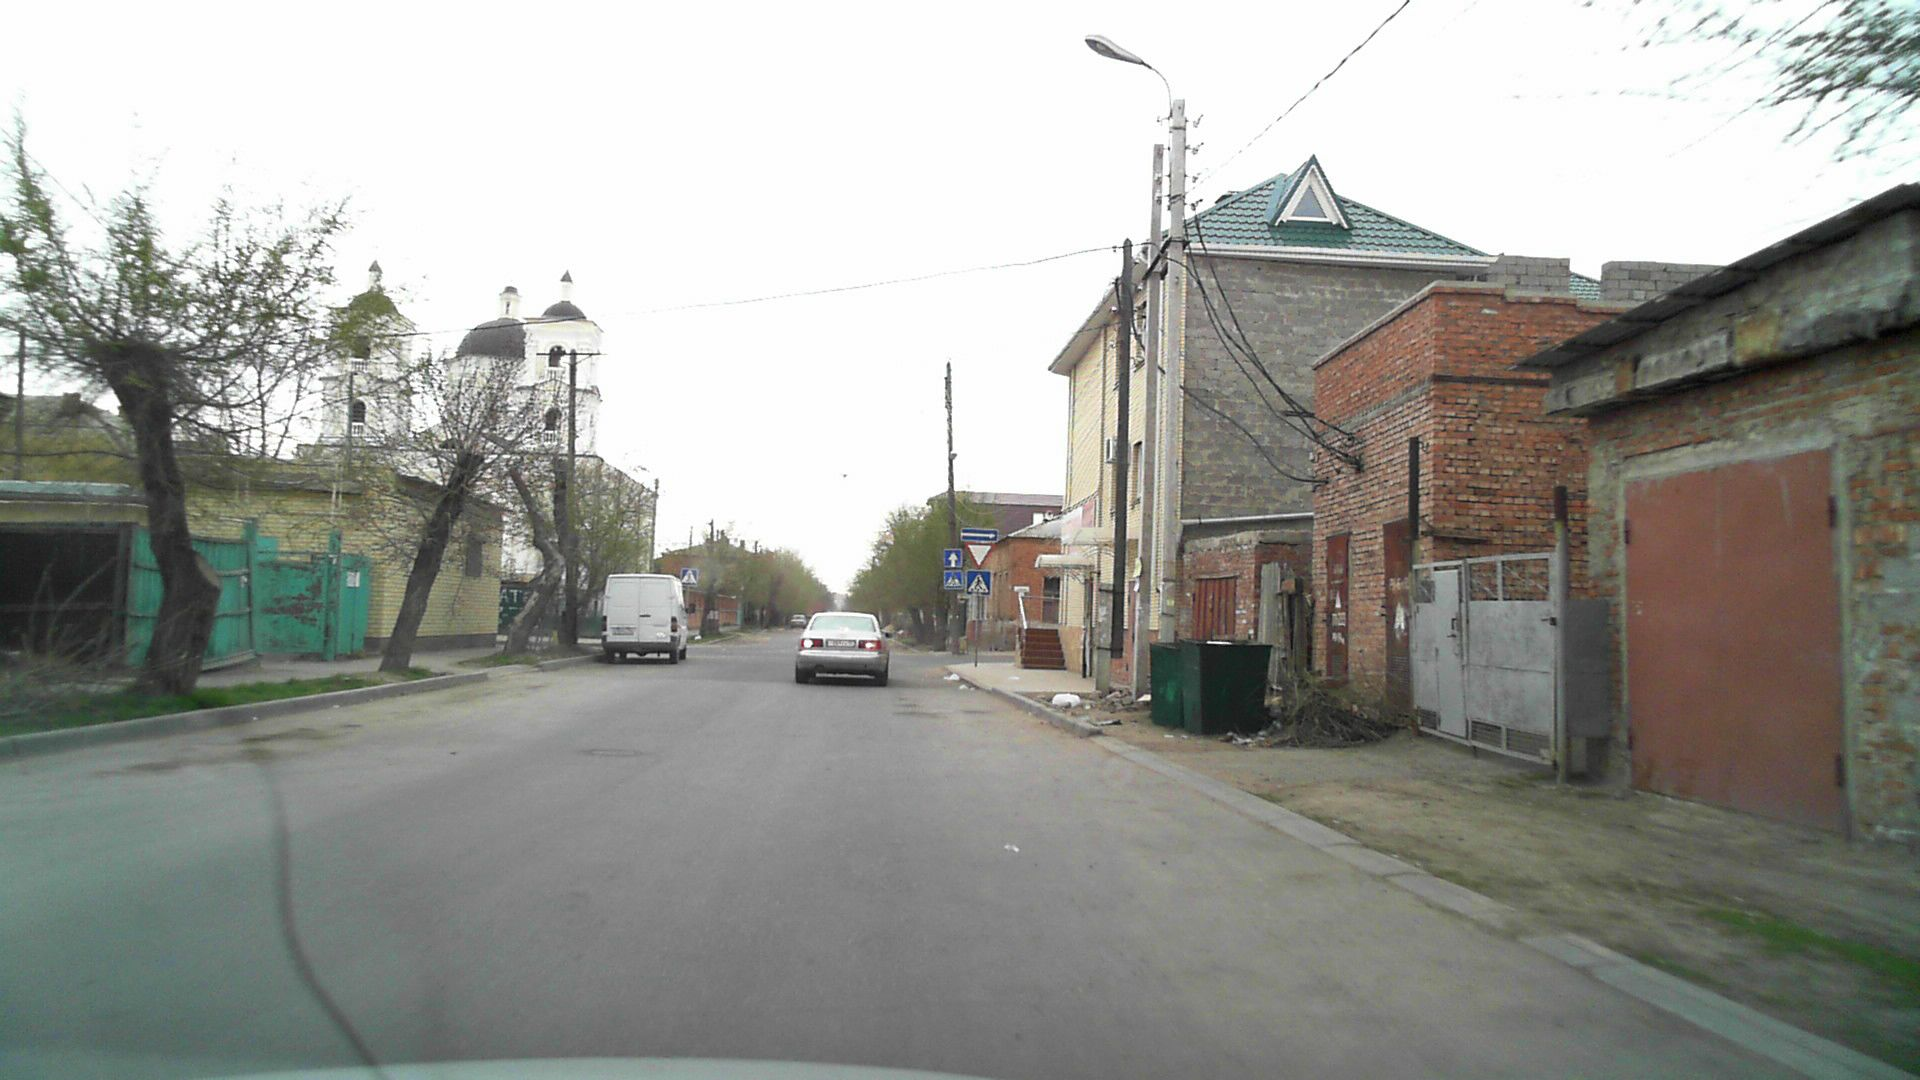One-Way Traffic: (961, 527, 998, 542)
Pedestrian Crossing: (967, 571, 992, 595)
